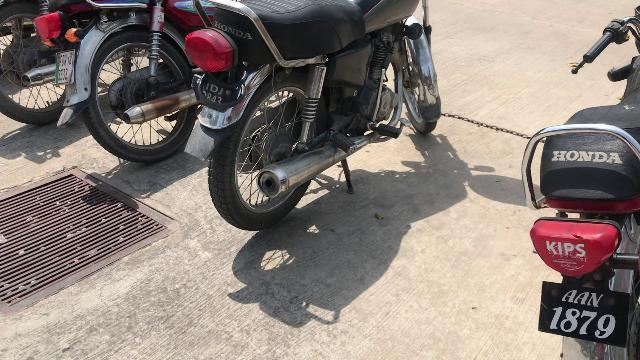plate: (539, 281, 631, 349)
